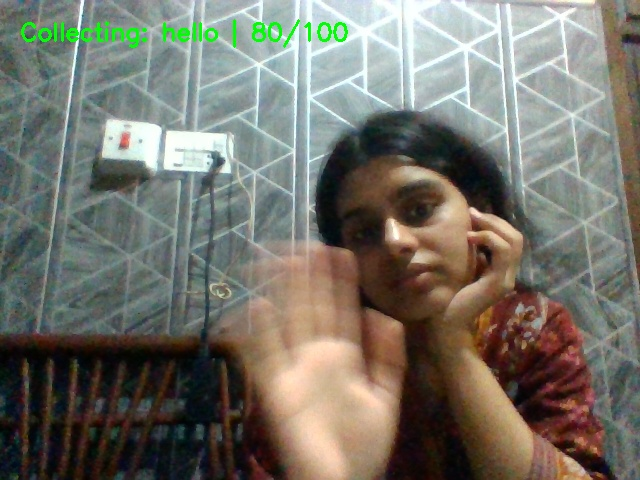hello: (198, 238, 443, 480)
